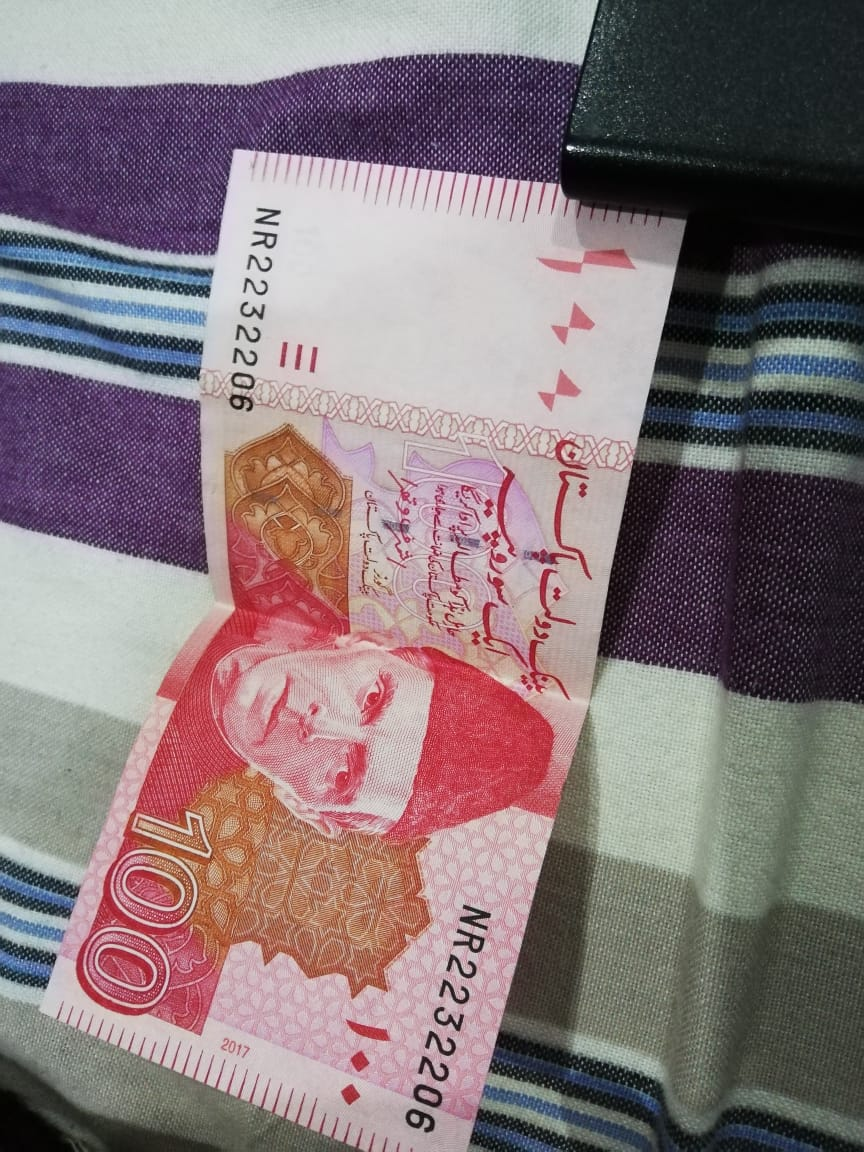100 rupee: (32, 154, 704, 1150)
